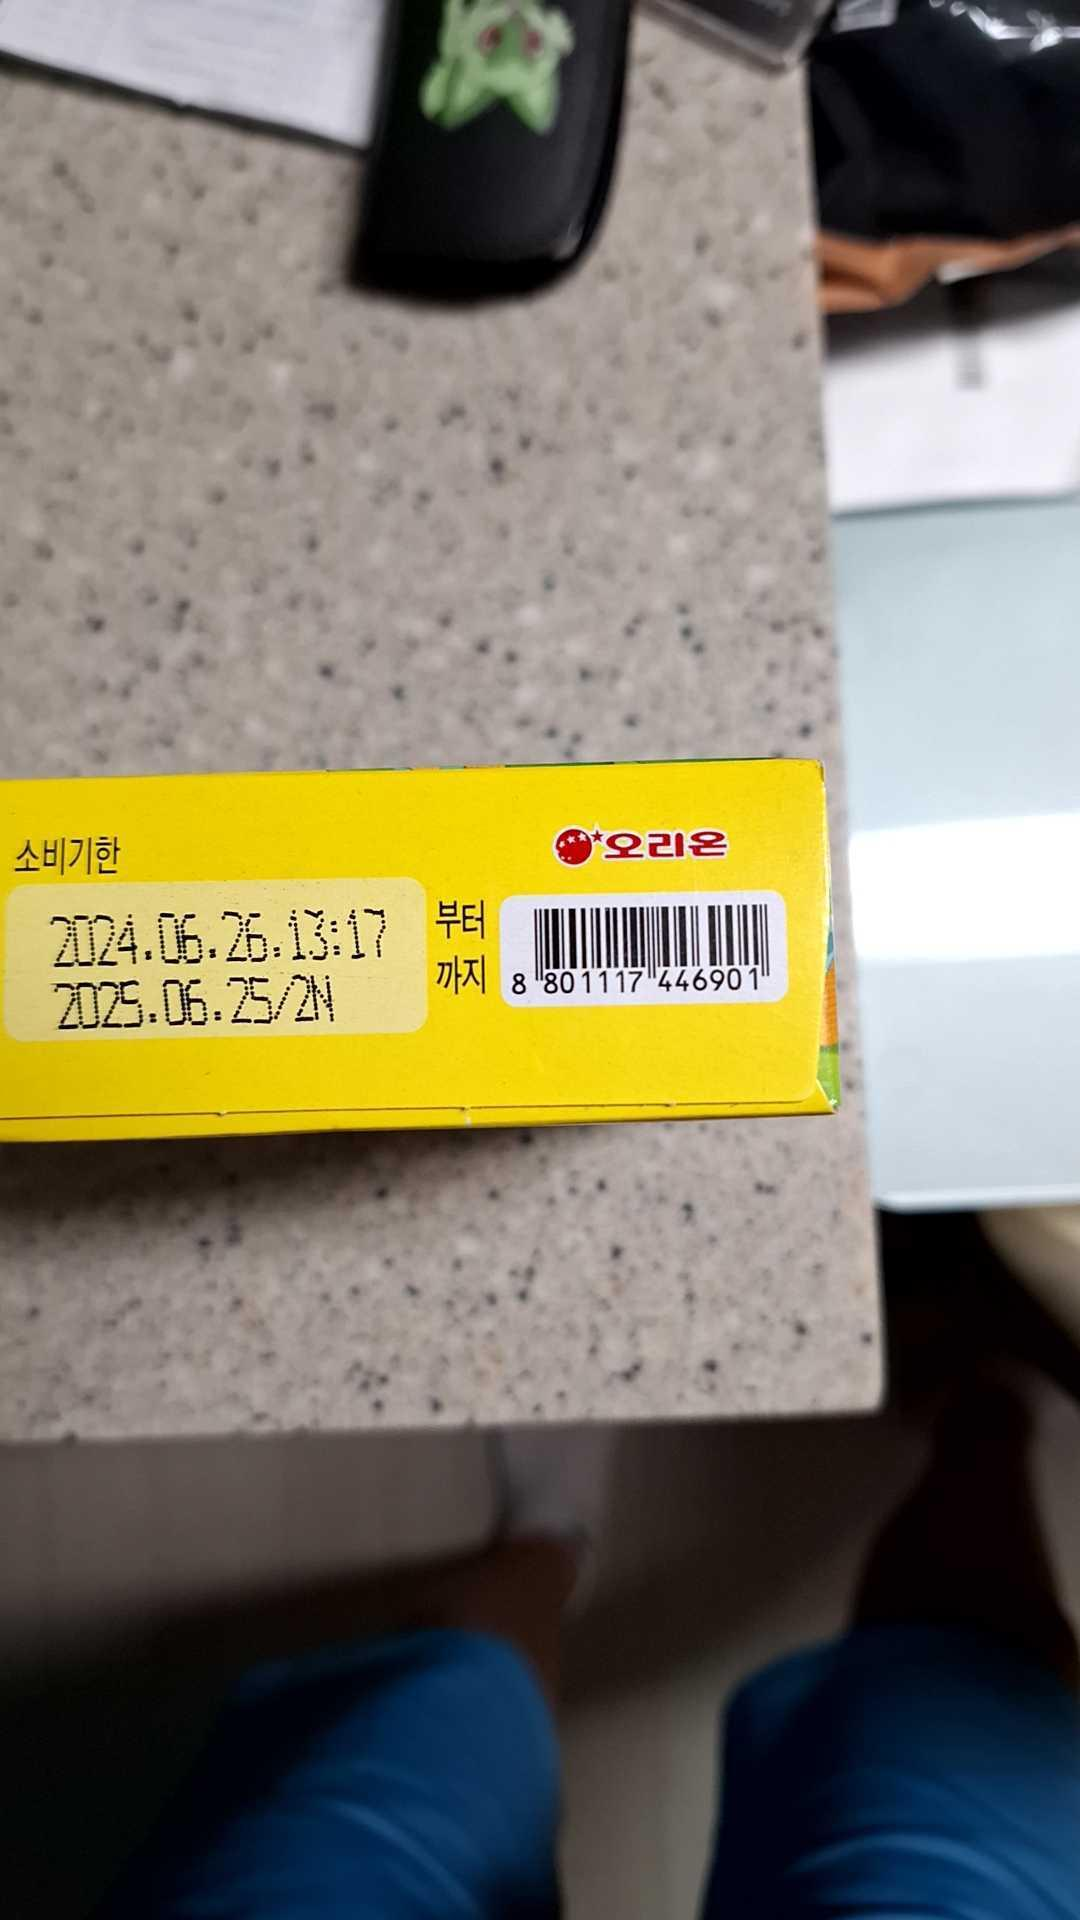chocomush-1200-2024-10-8: (502, 902, 781, 997)
